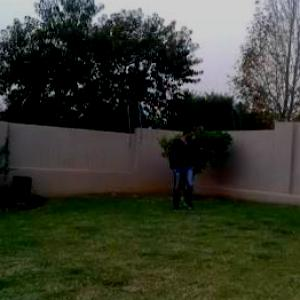follow: (169, 121, 197, 213)
